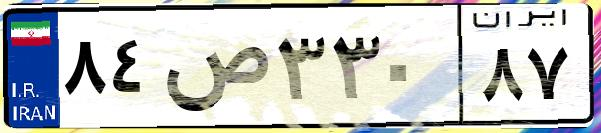0: (385, 28, 445, 110)
3: (270, 28, 330, 110), (330, 28, 385, 110)
4: (110, 28, 158, 98)
7: (525, 38, 570, 115)
8: (57, 26, 110, 100), (475, 38, 525, 113)
ص: (158, 20, 270, 120)
